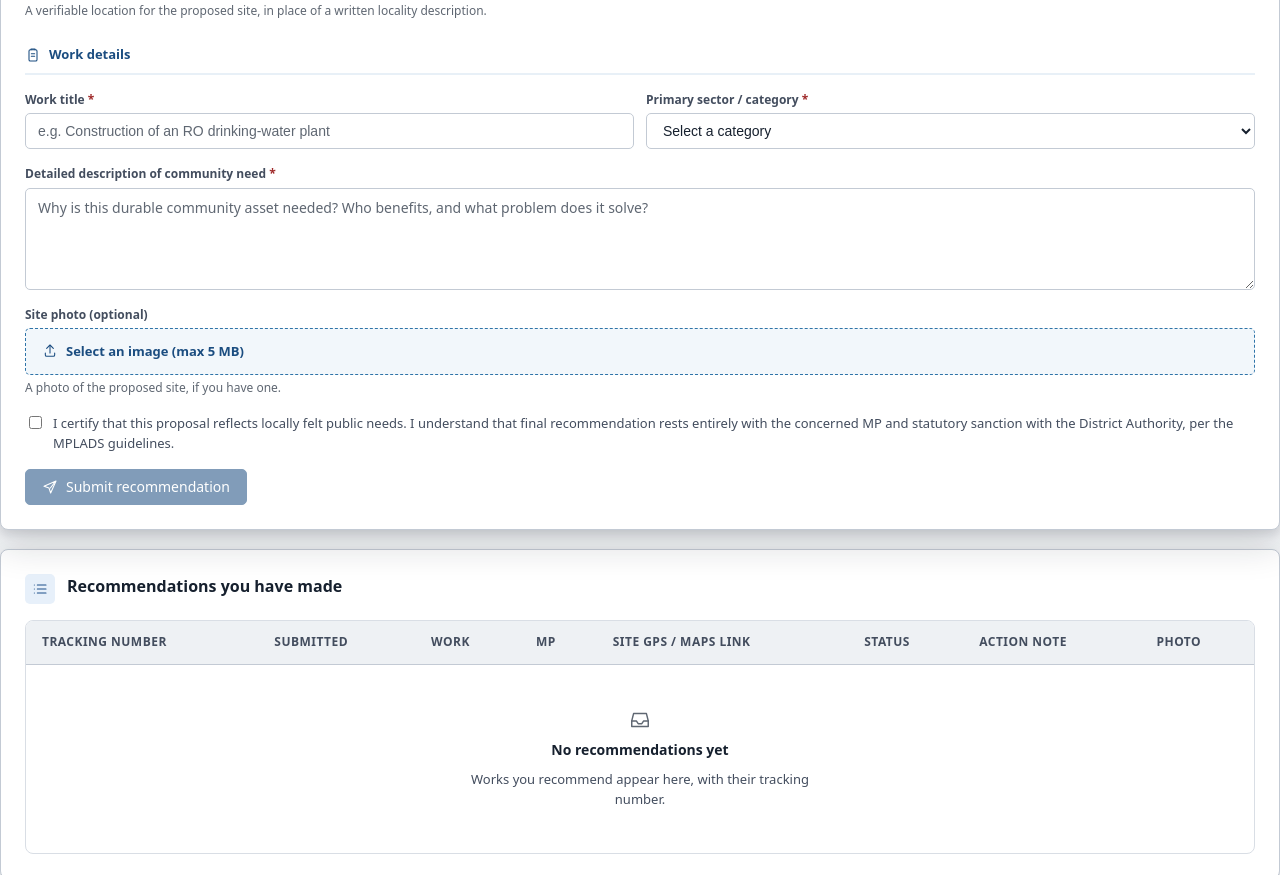
RecommendWork — citizen view › validates required fields and does not record an invalid submission
(page scrolled)
expect the button "Submit recommendation" is disabled: met, box left=25, top=469, right=247, bottom=505
Step 1. Click the checkbox → (36, 423), box left=29, top=416, right=42, bottom=429
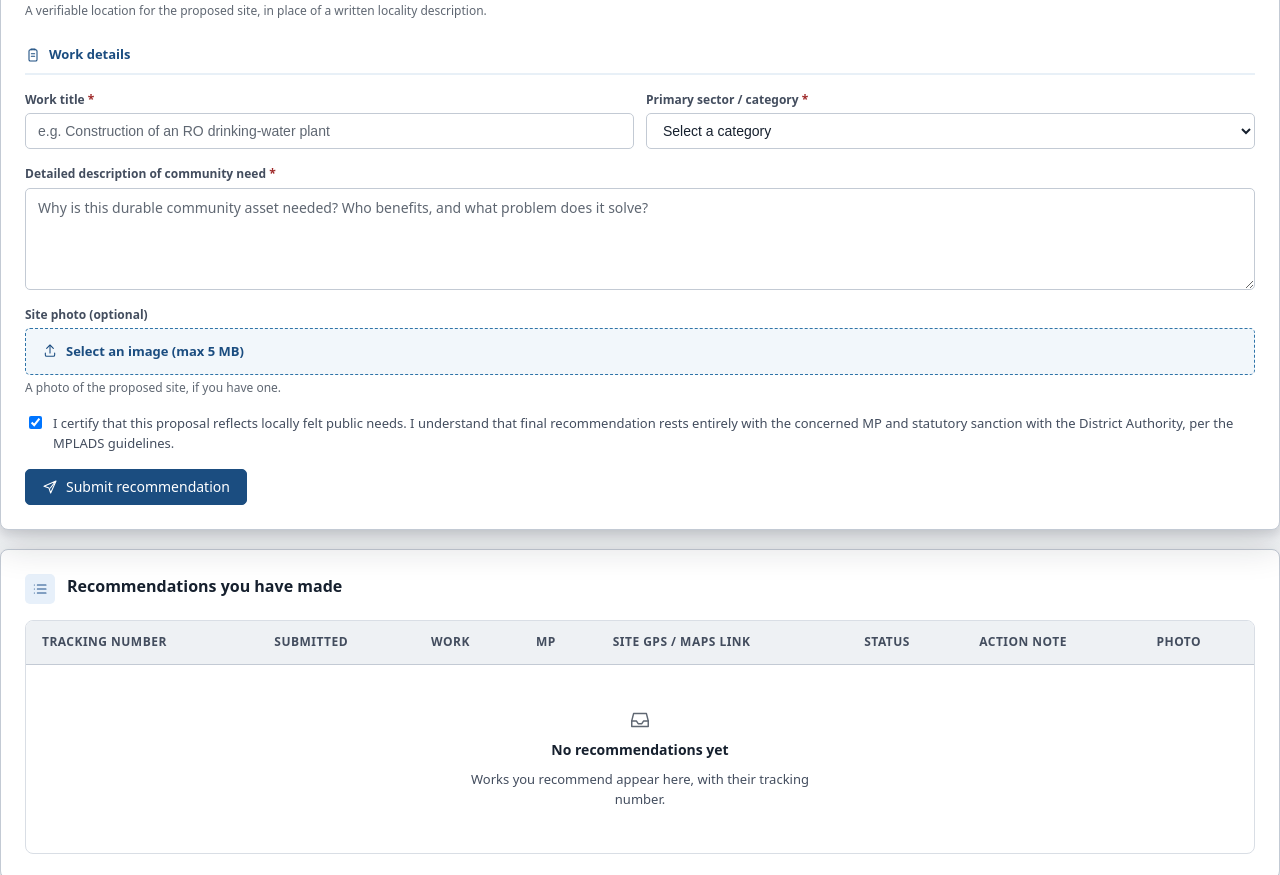
expect the button "Submit recommendation" is enabled: met
Step 2. Click the button "Submit recommendation" → (136, 487), box left=25, top=469, right=247, bottom=505
(page scrolled)
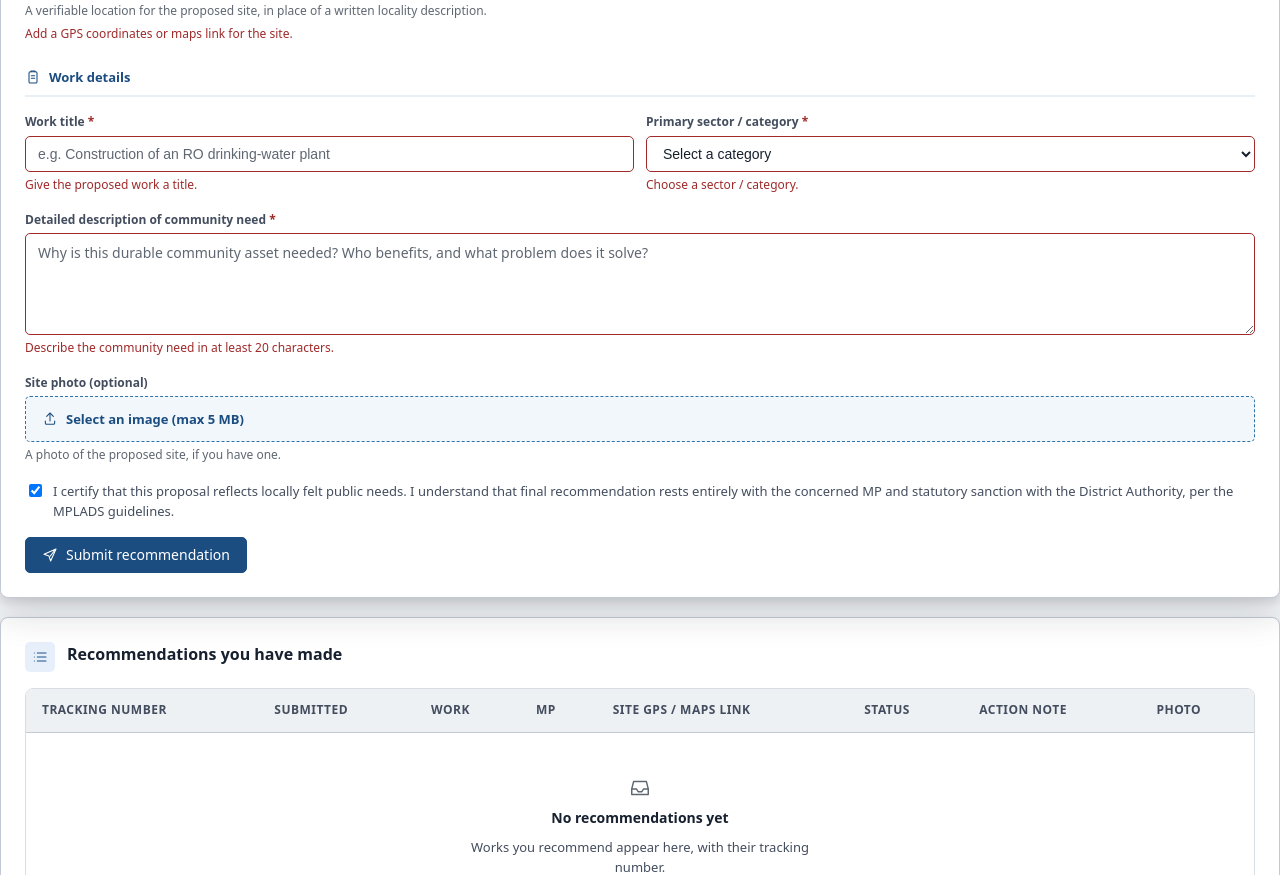
expect the text "Add a GPS coordinates or maps link for the site." is shown: met, box left=25, top=25, right=293, bottom=42
expect the text "Describe the community need in at least 20 characters." is shown: met, box left=25, top=339, right=334, bottom=356
